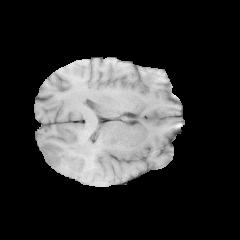glioma: (41, 129, 102, 179)
